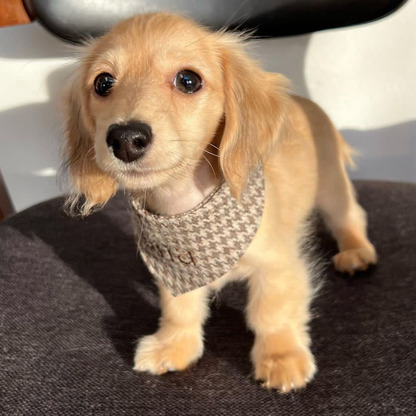dachshund: (49, 12, 344, 360)
